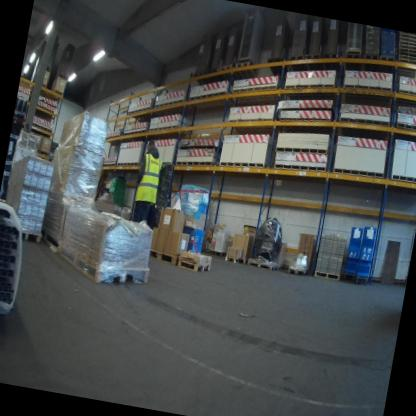pallet: (54, 243, 151, 290), (185, 84, 233, 120), (230, 76, 281, 109), (283, 75, 336, 106), (229, 108, 276, 141), (340, 77, 393, 105), (218, 153, 272, 180), (336, 109, 391, 135), (272, 156, 329, 180), (273, 138, 330, 161), (259, 49, 293, 86), (331, 160, 384, 183), (148, 118, 192, 142), (172, 154, 217, 176), (233, 56, 264, 87), (298, 44, 325, 77), (152, 92, 188, 116), (37, 226, 65, 255), (173, 256, 213, 276), (319, 47, 344, 79), (282, 47, 308, 75), (244, 256, 281, 274), (149, 248, 181, 267), (310, 268, 342, 286), (126, 99, 154, 119), (216, 57, 237, 81), (18, 227, 41, 248), (121, 123, 149, 140), (388, 170, 416, 187), (395, 86, 416, 106), (340, 47, 361, 67), (393, 118, 416, 134), (378, 53, 401, 68), (361, 50, 380, 68), (284, 263, 307, 277), (223, 254, 249, 265), (206, 248, 225, 260), (36, 148, 50, 159)
